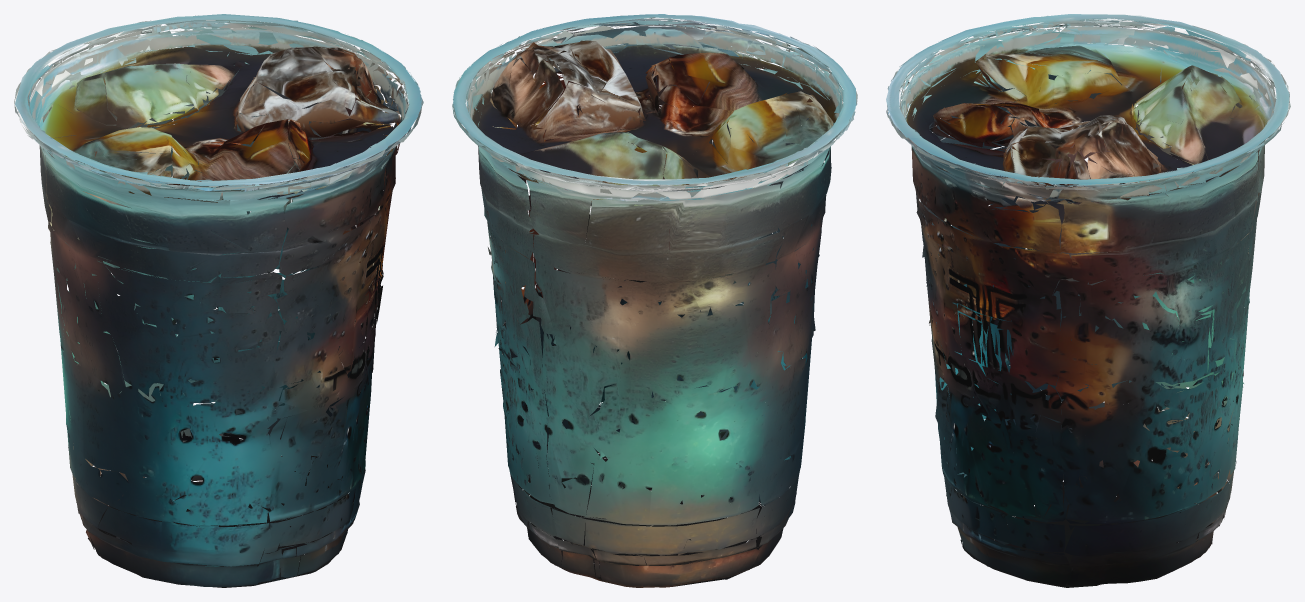
File: ICE AMERICANO.glb
3 renders of one model, left to right at view 1: azimuth 30°, elevation 25°; view 2: azimuth 150°, elevation 25°; view 3: azimuth 270°, elevation 25°, orthographic.
Visible parts, largest first — view 1: model; view 2: model; view 3: model.
Part boxes in pixels (<box>): model: <box>14,14,423,587</box>; model: <box>452,14,857,587</box>; model: <box>886,14,1290,587</box>.
Size of the model in its own units: 1.52 by 1.9 by 1.52.
1 material, 1 textured.
